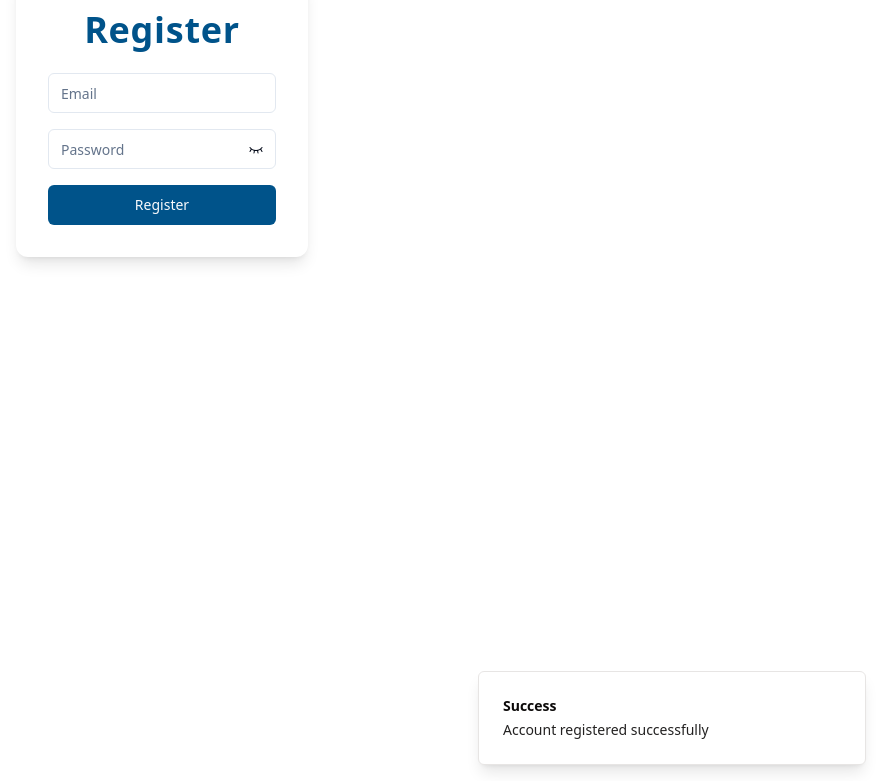
Test: RegisterPage › should input value no reset and render error toast after the register fail
Type "test@mail.com" into the field with placeholder "Email" at point(162, 93), box x1=48 y1=73 x2=276 y2=113
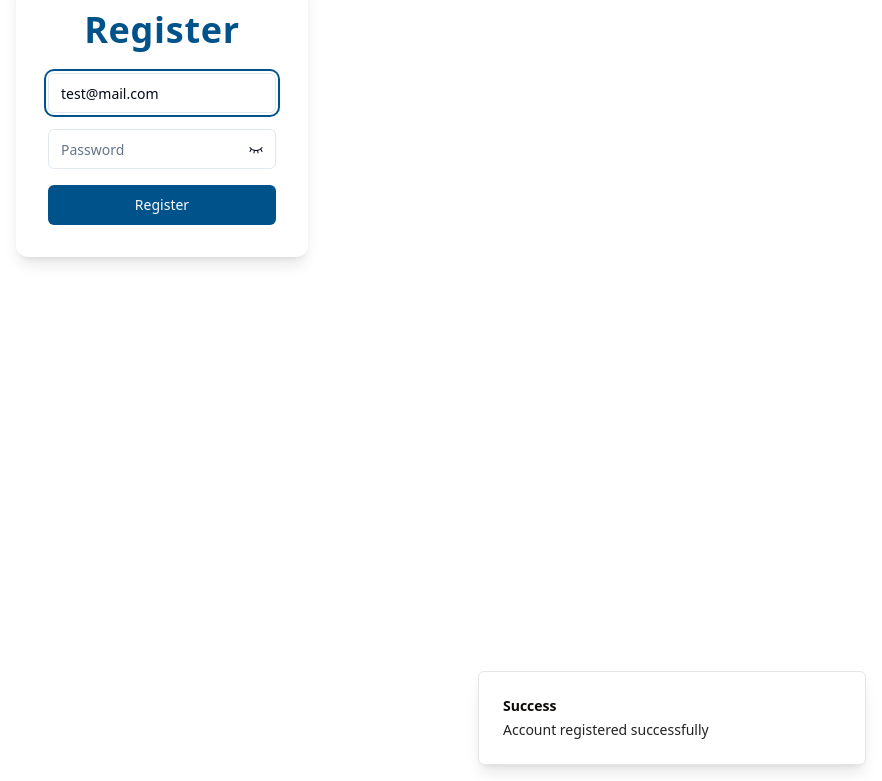
Type "12345" into the password field with placeholder "Password" at point(162, 149), box x1=48 y1=129 x2=276 y2=169
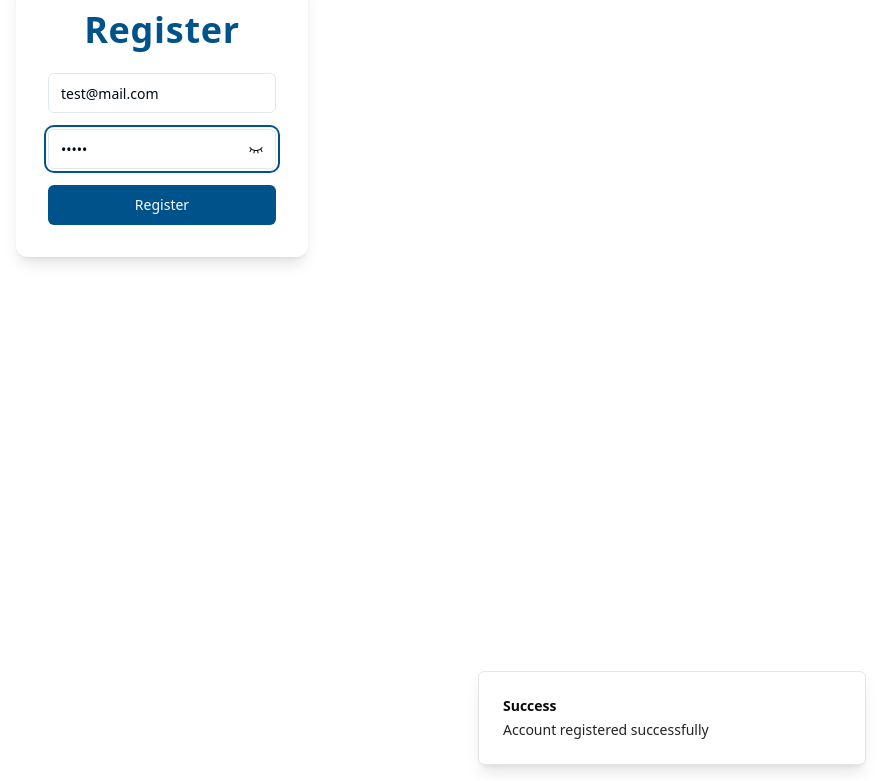
Click the button "Register" at point(162, 205), box x1=48 y1=185 x2=276 y2=225
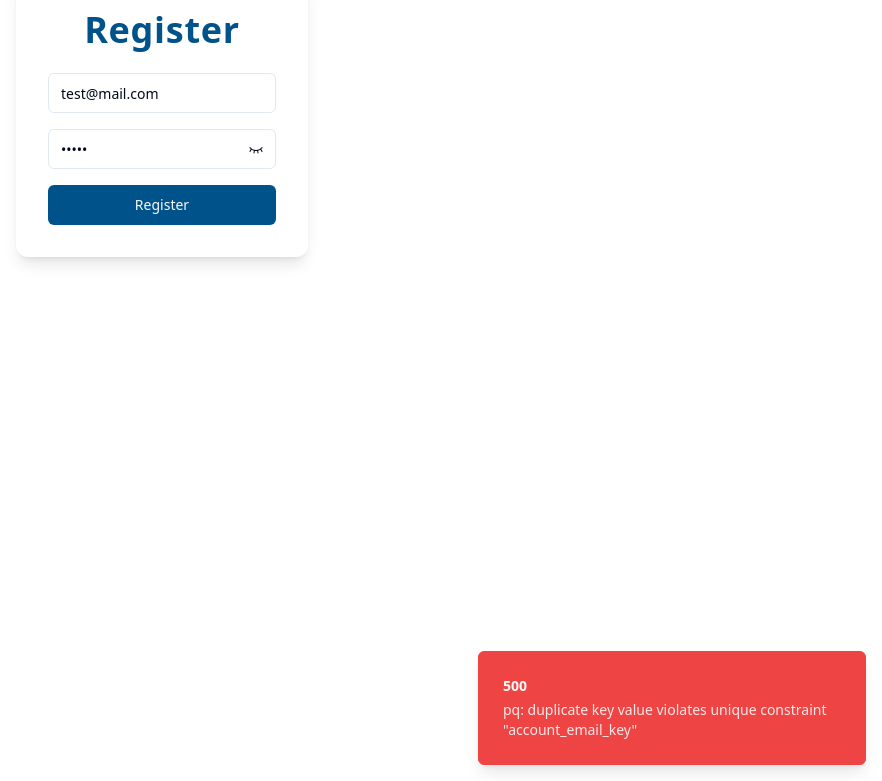
Expected: the list item with test id "toast" shows "500", x1=503 y1=676 x2=527 y2=695
Expected: the list item with test id "toast" shows "pq: duplicate key value violates unique constraint \"account_email_key\"", x1=503 y1=700 x2=826 y2=739
